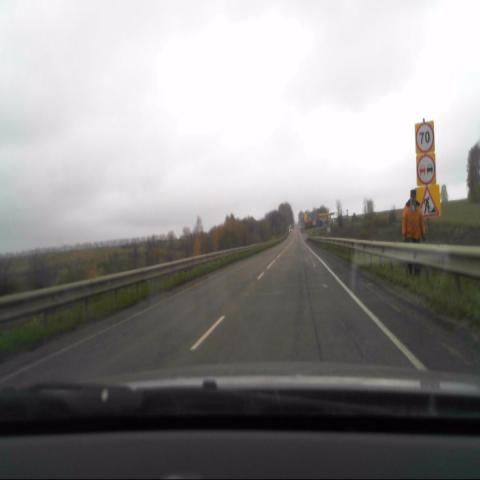1_25: (416, 187, 440, 218)
3_20: (416, 154, 436, 184)
3_24: (414, 122, 434, 153)
